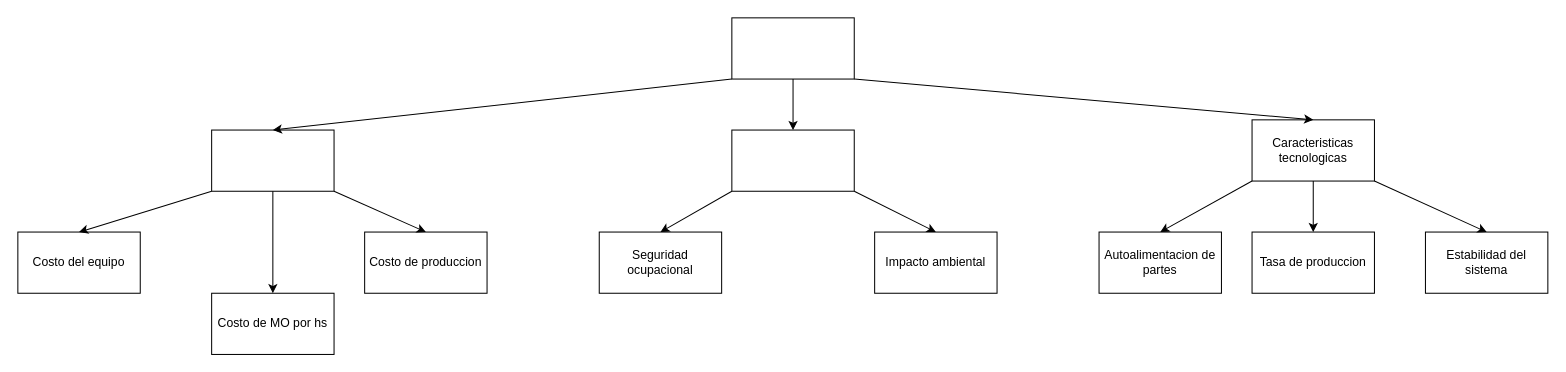
Some shapes in this 1566 by 372 pixel diagram are drawn without their labels. Each missing label, with the centre of its shape:
Costos: the point at 272,160
Seguridad y amb iente: the point at 792,160
Seleccionar la mejor alternativa para automatizar procesos: the point at 792,48
